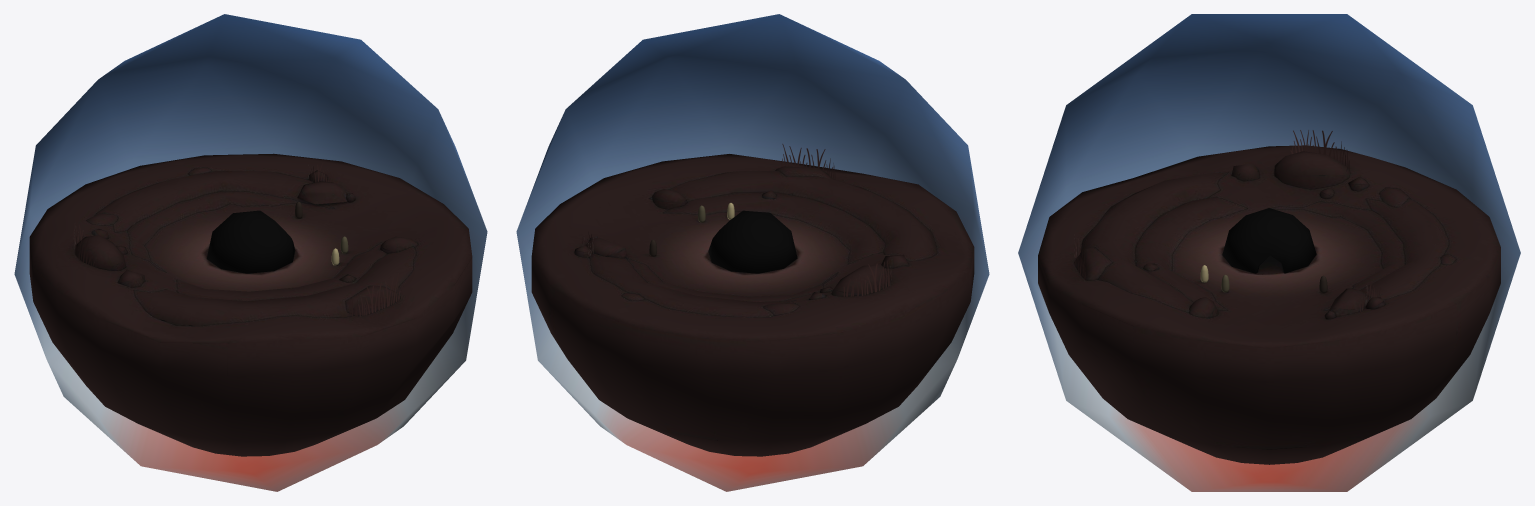
The picture shows the model from 3 angles, left to right: view 1: azimuth 30°, elevation 25°; view 2: azimuth 150°, elevation 25°; view 3: azimuth 270°, elevation 25°; orthographic projection. The views are drawn at different scales.
Parts seen in each view (by area): view 1: ground.009, envirosphere.007, lodge.008, GRASS.012; view 2: ground.009, envirosphere.007, lodge.008, GRASS.013; view 3: ground.009, envirosphere.007, lodge.008, GRASS.013.
Part boxes in pixels (<box>): ground.009: <box>29,153,472,456</box>; envirosphere.007: <box>14,14,487,491</box>; lodge.008: <box>207,210,295,273</box>; GRASS.012: <box>348,273,401,316</box>; ground.009: <box>531,154,974,456</box>; envirosphere.007: <box>516,14,989,491</box>; lodge.008: <box>708,210,797,273</box>; GRASS.013: <box>843,261,891,296</box>; ground.009: <box>1038,145,1500,464</box>; envirosphere.007: <box>1018,14,1520,491</box>; lodge.008: <box>1222,208,1316,273</box>; GRASS.013: <box>1290,130,1349,170</box>.
Size of the model in its own units: 13.02 by 13.69 by 13.69.
Materials: 8 (3 with a texture image).
